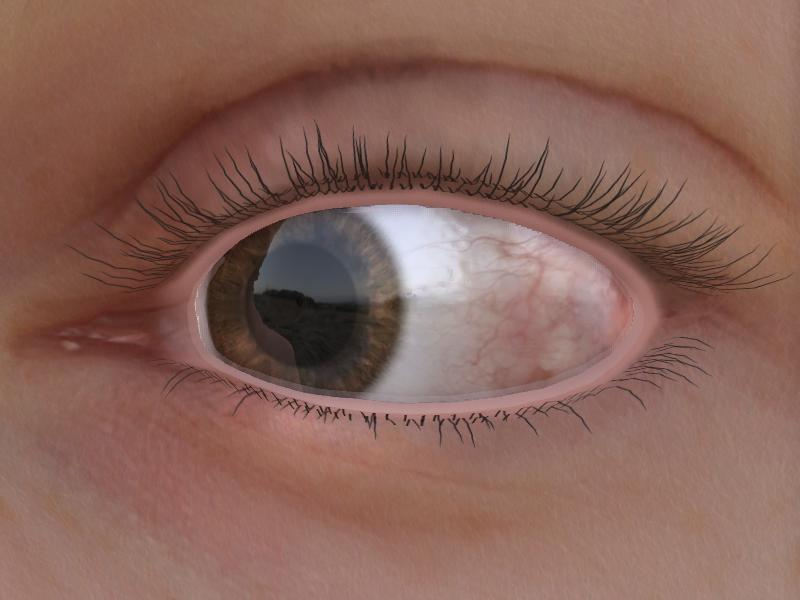eye: (206, 214, 405, 399)
